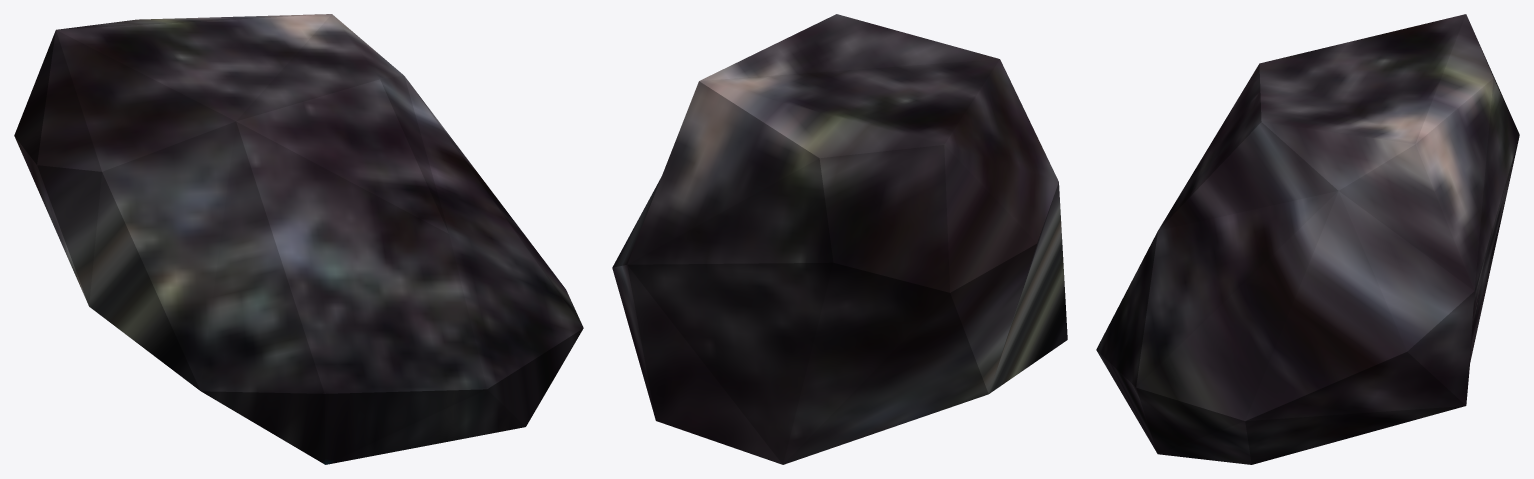
The model's file is rock.glb.
3 views of the same model, side by side, from view 1: azimuth 30°, elevation 25°; view 2: azimuth 150°, elevation 25°; view 3: azimuth 270°, elevation 25° (orthographic). The views are drawn at different scales.
Visible parts, largest first — view 1: Rock; view 2: Rock; view 3: Rock.
Boxes of the visible parts, <box> form: Rock: <box>14,14,583,464</box>; Rock: <box>612,14,1067,464</box>; Rock: <box>1096,14,1519,464</box>.
Bounding box in the file's own units: 0.8357 × 0.6414 × 0.7786.
1 material, 1 textured.
